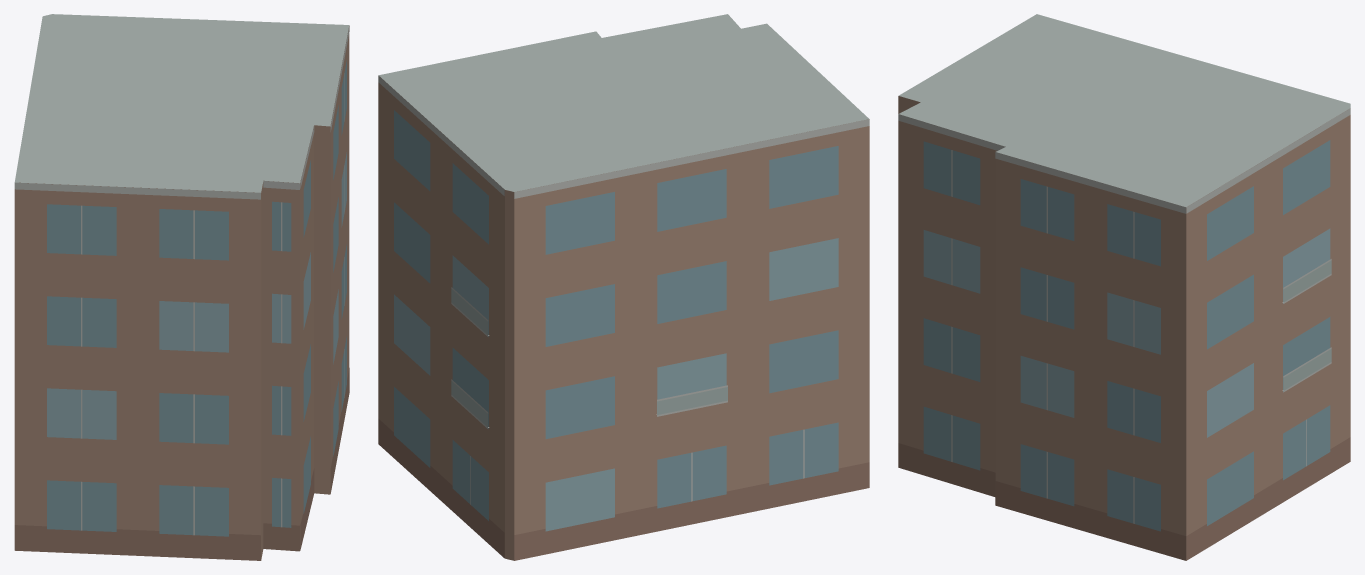
The model's file is survey-upis-32694884.glb.
3 renders of one model, left to right at view 1: azimuth 30°, elevation 25°; view 2: azimuth 150°, elevation 25°; view 3: azimuth 270°, elevation 25°, orthographic. The views are drawn at different scales.
Parts seen in each view (by area): view 1: survey-upis-32694884.tmp; view 2: survey-upis-32694884.tmp; view 3: survey-upis-32694884.tmp.
Boxes of the visible parts, x1=… form: survey-upis-32694884.tmp: x1=14, y1=14, x2=349, y2=560; survey-upis-32694884.tmp: x1=378, y1=14, x2=869, y2=560; survey-upis-32694884.tmp: x1=898, y1=14, x2=1350, y2=560.
Size of the model in its own units: 15.26 by 13.01 by 15.09.
